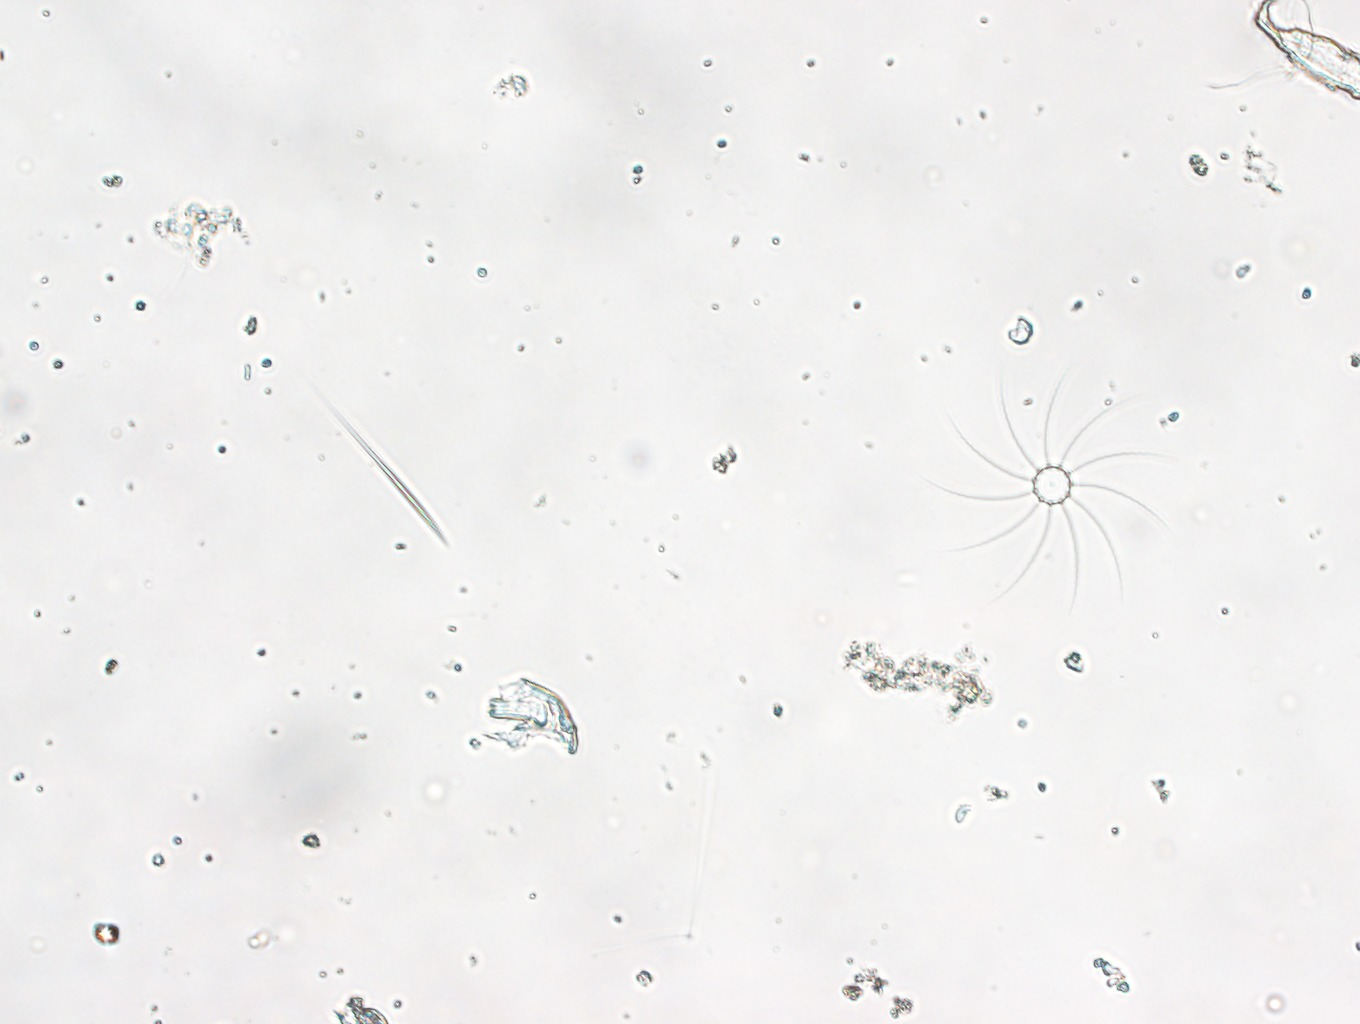bacteriastrum: (925, 356, 1177, 616)
